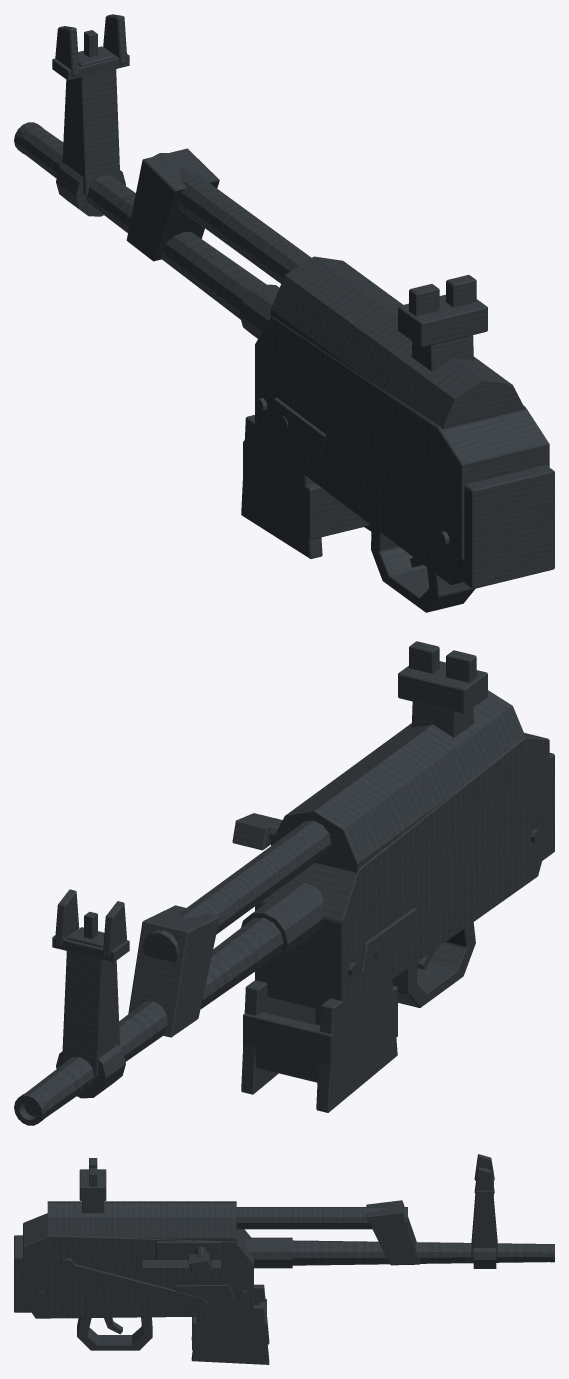
Rendered from weapon_pp1901.glb.
3 views of the same model, one above another, from view 1: azimuth 30°, elevation 25°; view 2: azimuth 150°, elevation 25°; view 3: azimuth 270°, elevation 25° (orthographic). The views are drawn at different scales.
Visible parts, largest first — view 1: body_LOD0; view 2: body_LOD0, action_LOD0; view 3: body_LOD0, action_LOD0.
Boxes of the visible parts, x1,y1,x2,y2 form: body_LOD0: [14, 14, 554, 612]; body_LOD0: [14, 641, 554, 1125]; action_LOD0: [232, 813, 282, 850]; body_LOD0: [14, 1154, 554, 1364]; action_LOD0: [156, 1241, 220, 1271].
Size of what is drawn, in the model's own units: 0.1398 by 0.3026 by 0.773.
Materials: 1 (1 with a texture image).
